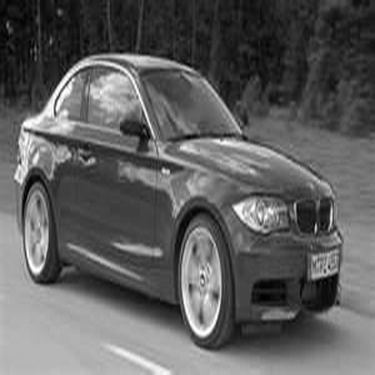car: (5, 43, 349, 351)
